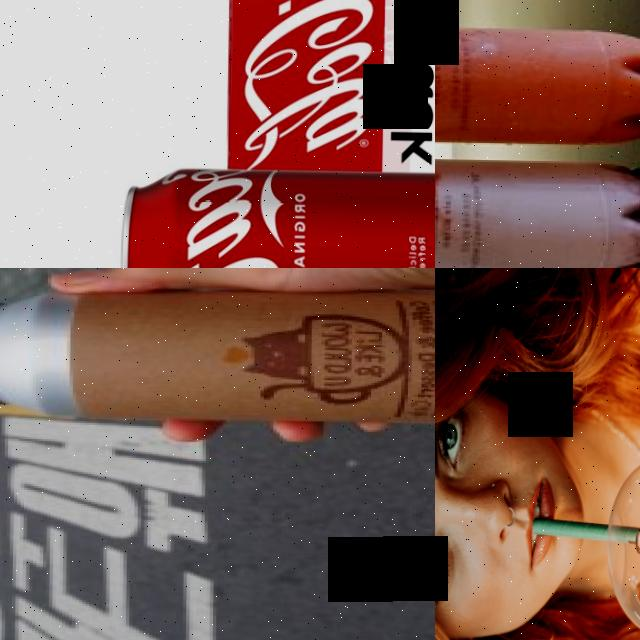can: (0, 279, 435, 425), (114, 161, 435, 268), (435, 22, 640, 152), (435, 154, 640, 268)
